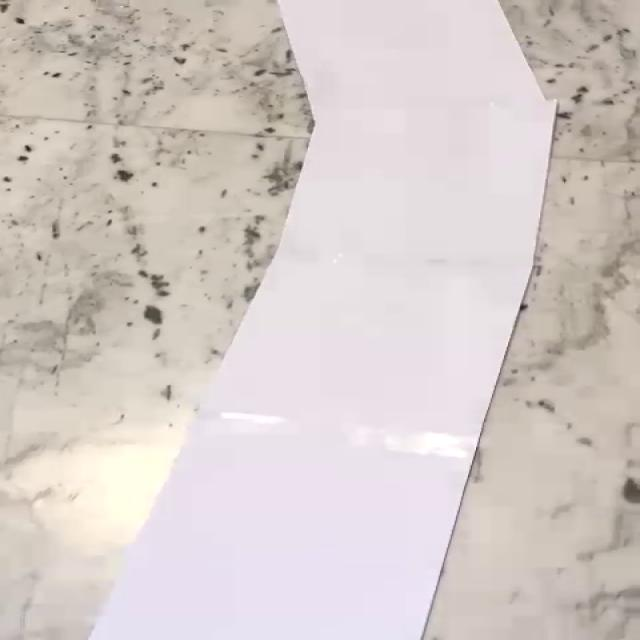road: (88, 0, 556, 640)
